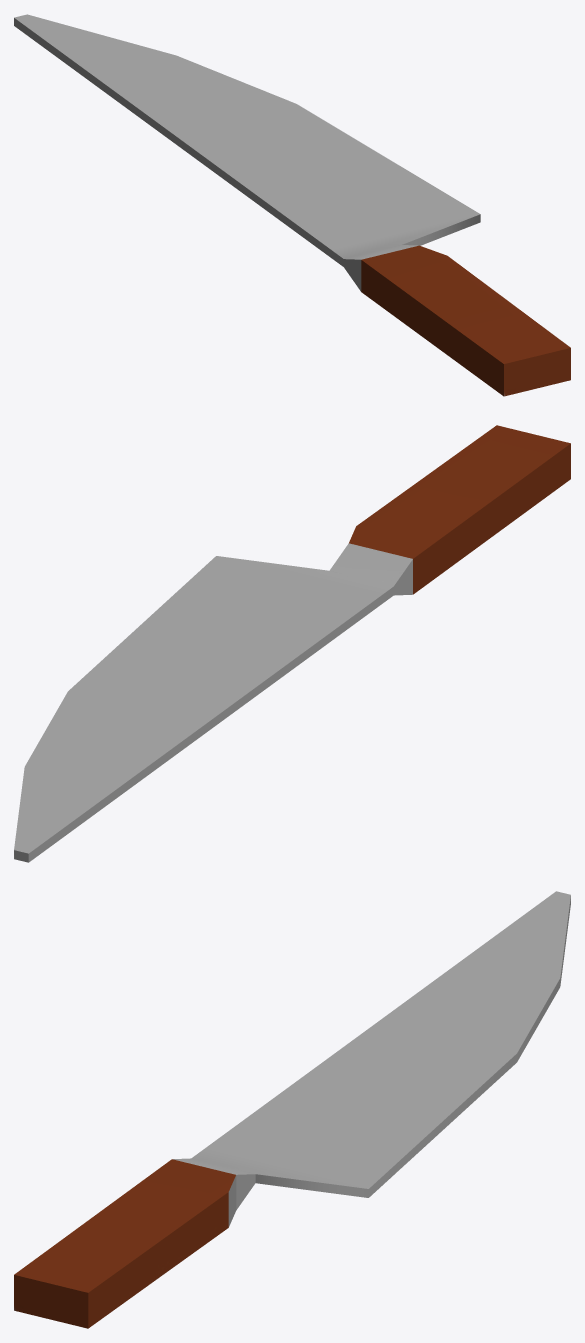
Rendered from knife.fbx.
The picture shows the model from 3 angles, top to bottom: view 1: azimuth 30°, elevation 25°; view 2: azimuth 150°, elevation 25°; view 3: azimuth 330°, elevation 25°; orthographic projection. The views are drawn at different scales.
Parts seen in each view (by area): view 1: knife; view 2: knife; view 3: knife.
Boxes of the visible parts, x1,y1,x2,y2 form: knife: [14, 14, 570, 396]; knife: [14, 425, 570, 862]; knife: [14, 891, 570, 1328].
Bounding box in the file's own units: 0.7252 × 0.1511 × 4.14.
